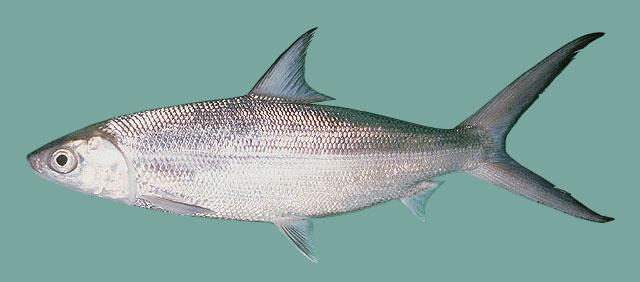Mulut: (14, 142, 54, 193)
Sirip Anal: (392, 172, 453, 226)
Sirip Dada: (126, 183, 230, 227)
Sirip Ekor: (444, 23, 630, 237)
Sirip Perut: (267, 206, 337, 274)
Sirip Punggung: (225, 22, 349, 114)
